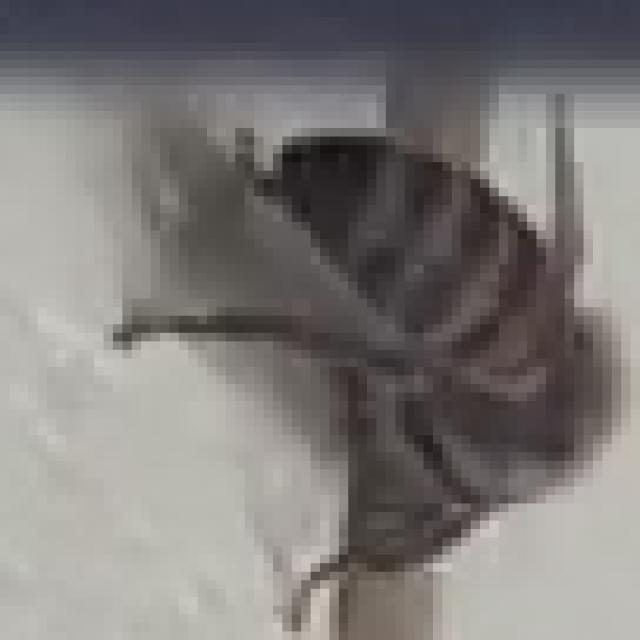honeybee: (115, 112, 640, 632)
